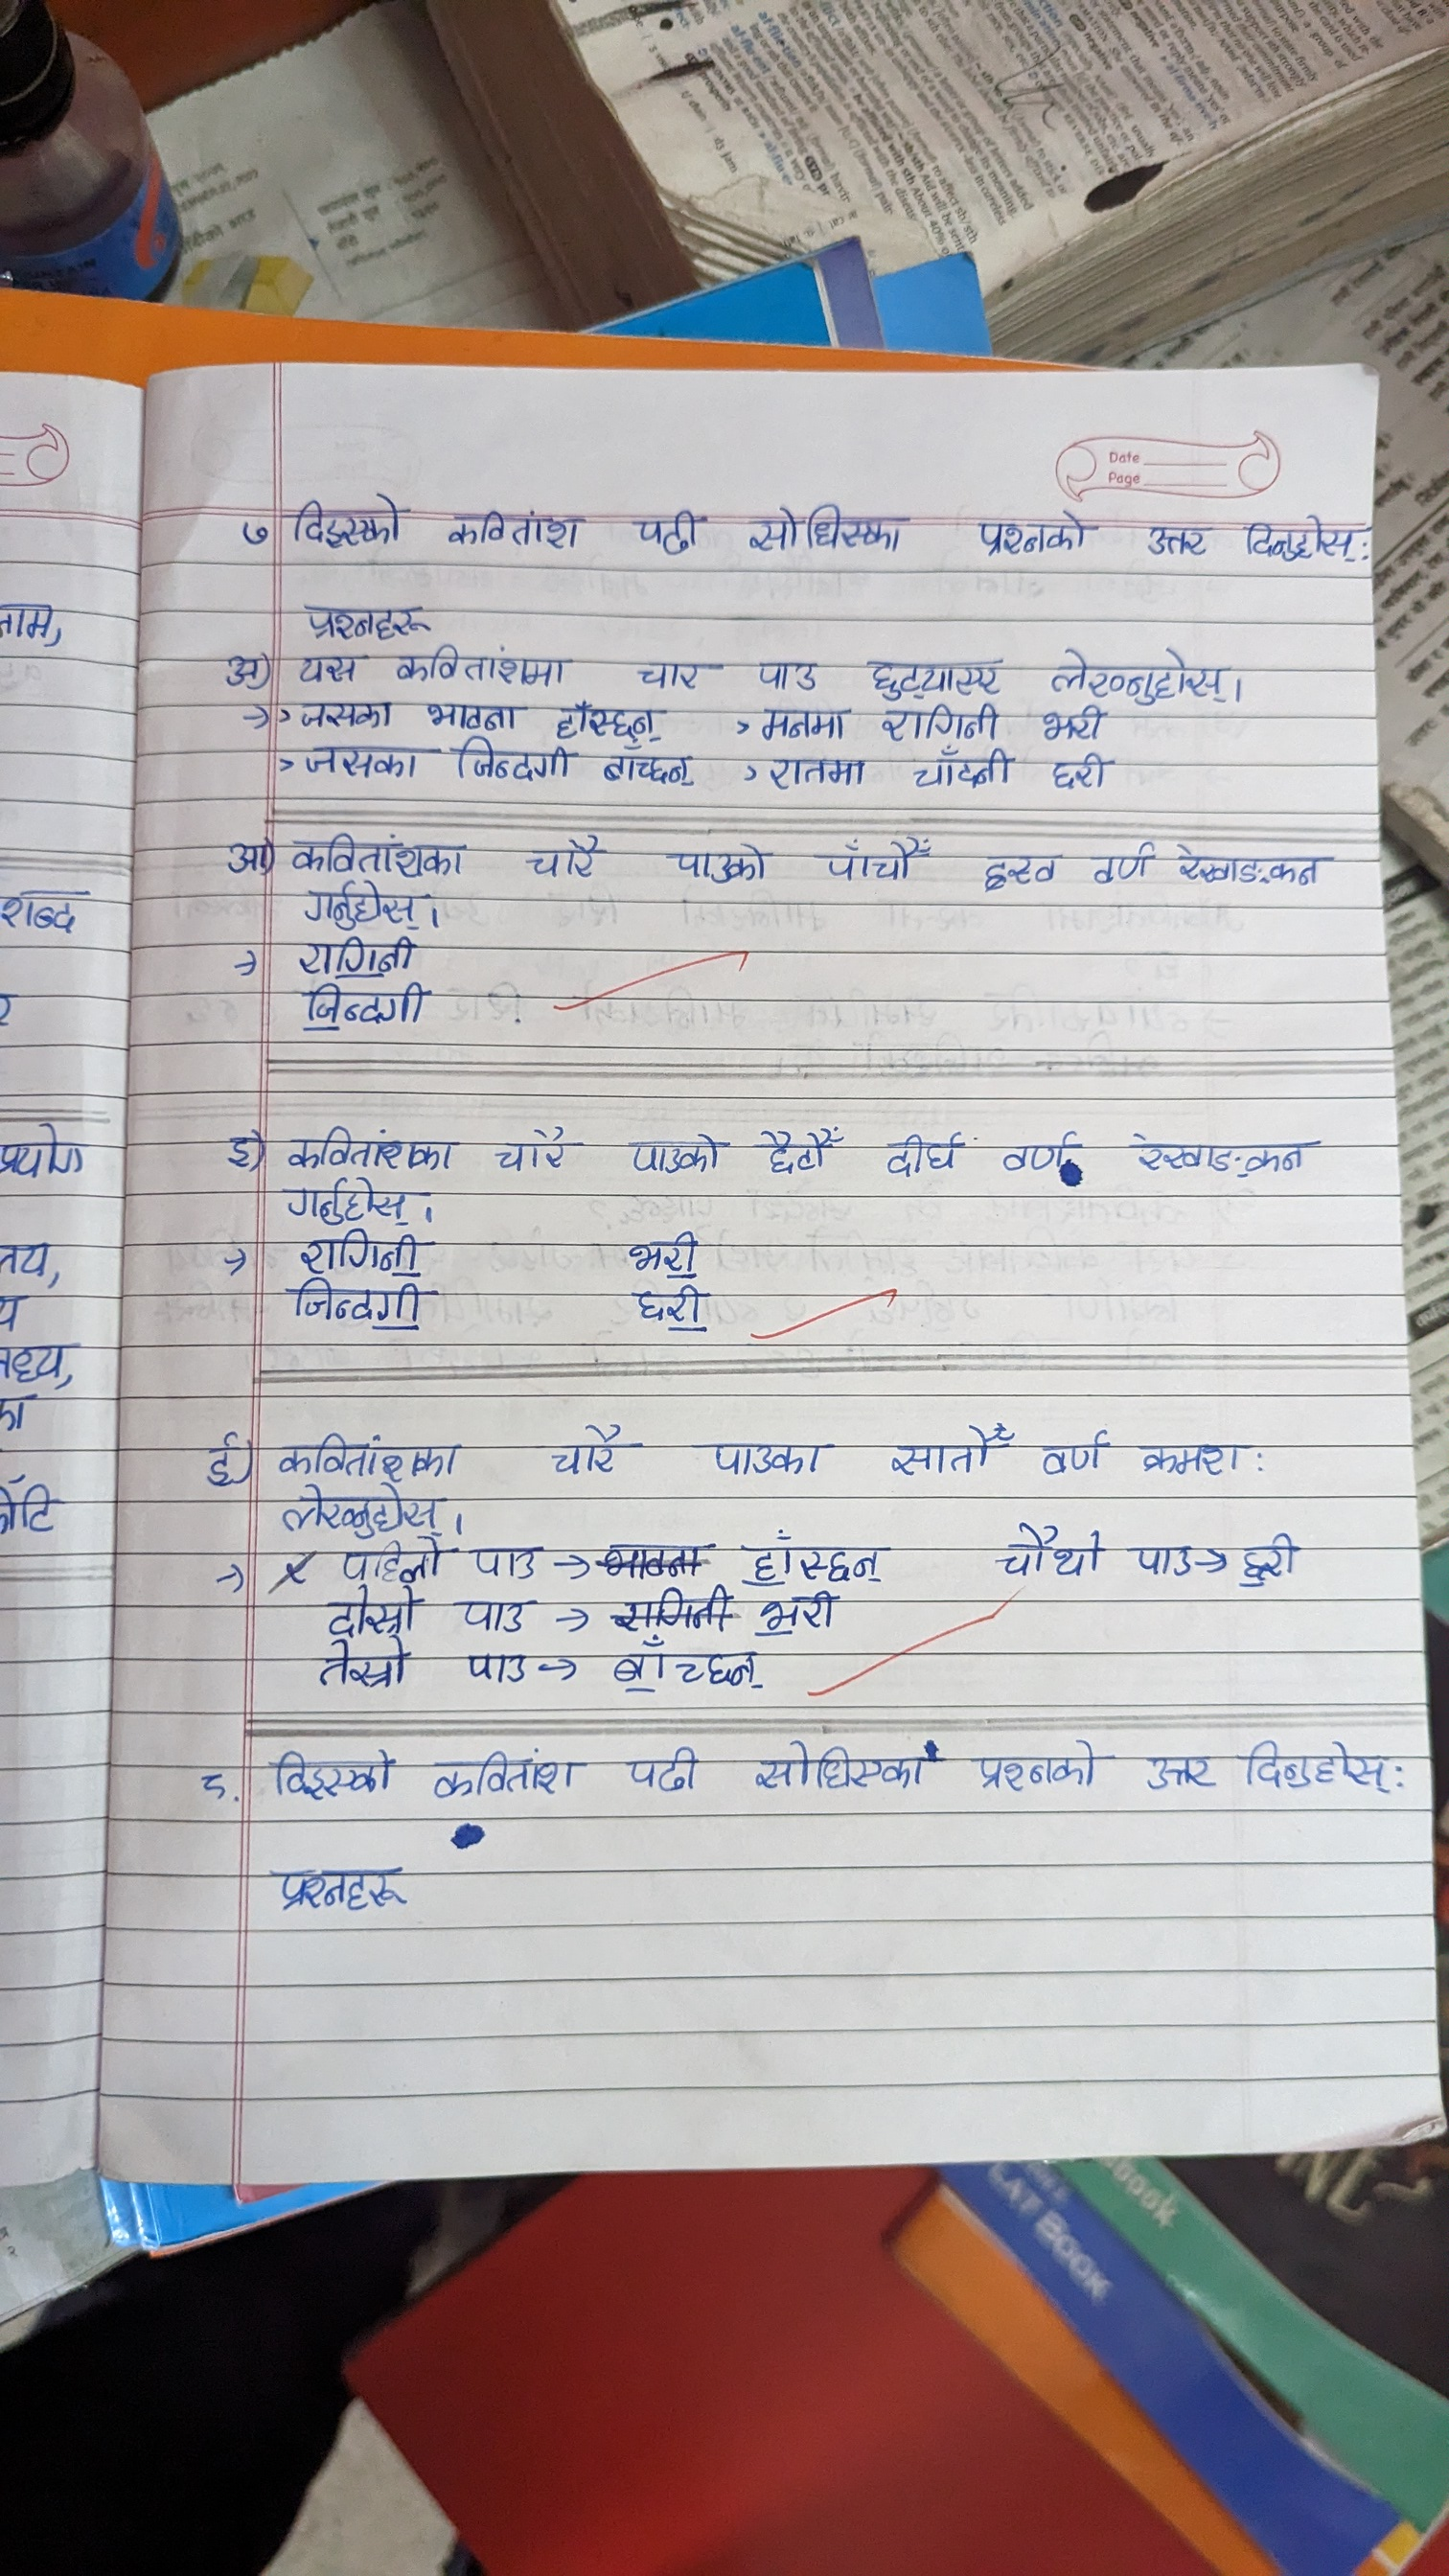text: (1123, 1122, 1313, 1187), (1039, 642, 1233, 702), (741, 495, 909, 563), (274, 1430, 464, 1486), (426, 1739, 589, 1805), (1237, 1737, 1398, 1801), (600, 1640, 763, 1700), (738, 1739, 927, 1790), (267, 1854, 418, 1916), (741, 1523, 895, 1583), (853, 642, 1008, 701), (968, 1736, 1106, 1801), (272, 1279, 432, 1336), (280, 1120, 453, 1171), (292, 830, 465, 879), (281, 1486, 455, 1536), (879, 1412, 1010, 1477), (441, 497, 587, 554), (1175, 837, 1325, 890), (1235, 502, 1359, 566), (985, 1522, 1113, 1583), (699, 1424, 833, 1481), (288, 487, 407, 550), (614, 1115, 729, 1180), (395, 644, 564, 688), (966, 501, 1090, 561), (280, 1175, 425, 1226), (262, 1748, 400, 1796), (665, 835, 780, 892), (816, 830, 931, 886), (297, 984, 428, 1031), (297, 879, 423, 929), (1134, 1430, 1244, 1484), (304, 596, 432, 640), (306, 1638, 412, 1691), (616, 1228, 729, 1277), (292, 1233, 428, 1274), (448, 743, 579, 784), (525, 824, 607, 888), (906, 747, 1014, 794), (617, 506, 711, 561), (614, 1739, 704, 1796), (550, 697, 663, 741), (1230, 1520, 1306, 1585), (295, 934, 412, 977), (973, 837, 1060, 893), (883, 1122, 964, 1182), (547, 1421, 628, 1481), (757, 1116, 835, 1178), (320, 1585, 414, 1637), (881, 704, 1000, 743), (487, 1122, 579, 1171), (304, 740, 421, 778), (596, 743, 694, 789), (625, 1283, 722, 1329), (1139, 1739, 1221, 1794), (343, 1539, 448, 1582), (1134, 511, 1217, 563), (1081, 833, 1155, 890), (628, 640, 704, 695), (757, 1592, 844, 1637), (768, 754, 865, 793), (994, 1127, 1079, 1171), (757, 702, 849, 743), (425, 697, 522, 734), (754, 648, 828, 695), (1033, 1428, 1108, 1476), (200, 1422, 246, 1491), (455, 1594, 533, 1635), (469, 1537, 538, 1582), (297, 697, 396, 727), (1125, 1536, 1192, 1580), (1047, 750, 1109, 798), (464, 1644, 531, 1684), (214, 646, 267, 692), (297, 649, 366, 685), (1039, 704, 1102, 741), (221, 832, 272, 878), (234, 510, 278, 554), (221, 1129, 257, 1175), (200, 1762, 232, 1803)
